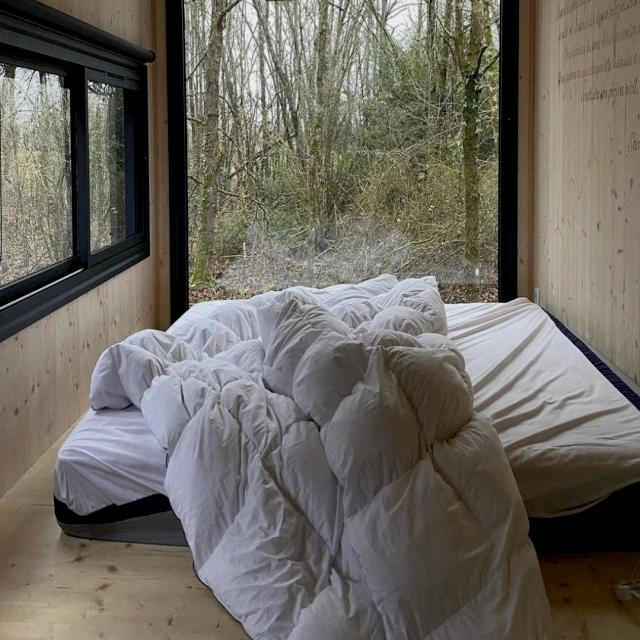bed: (74, 270, 632, 552)
